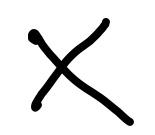mult: (28, 18, 135, 126)
